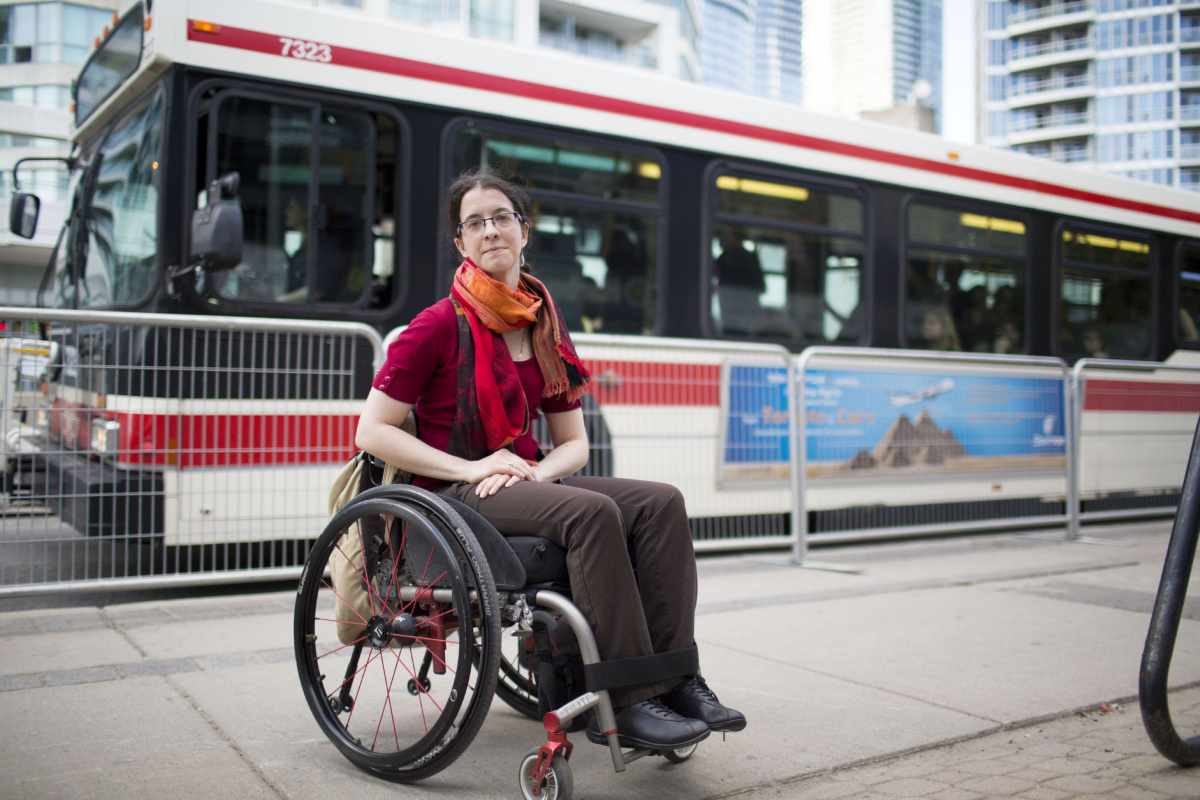person: (325, 165, 644, 479)
wheelchair: (290, 475, 721, 788)
